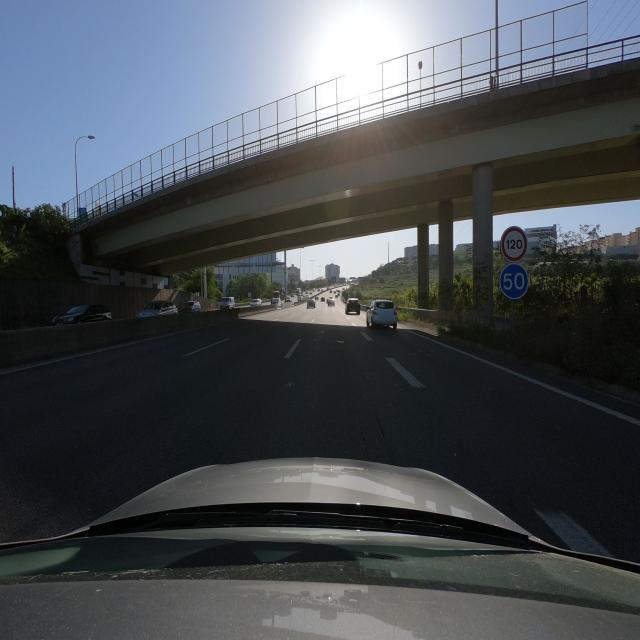car: (51, 304, 112, 324), (365, 298, 398, 329), (136, 299, 178, 319), (344, 298, 360, 315), (182, 300, 201, 312), (219, 297, 235, 309), (270, 298, 282, 308), (306, 298, 316, 309), (250, 298, 263, 306), (326, 297, 335, 307)
